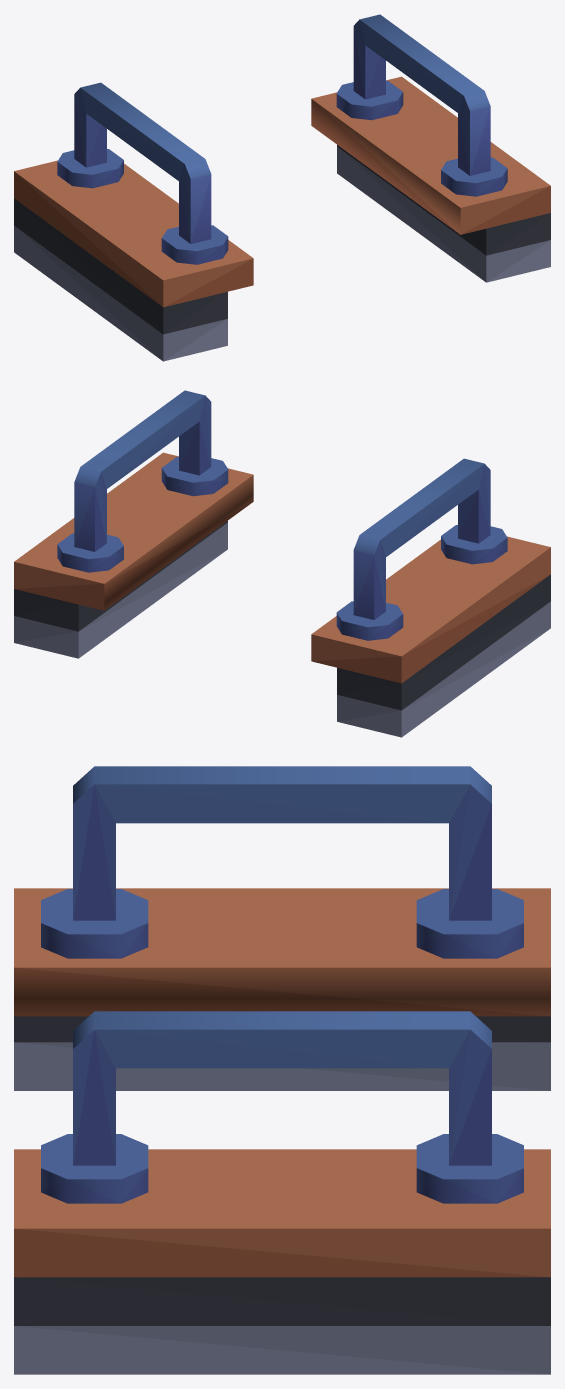
Rendered from coaster_station_fence.glb.
3 renders of one model, top to bottom at view 1: azimuth 30°, elevation 25°; view 2: azimuth 150°, elevation 25°; view 3: azimuth 270°, elevation 25°, orthographic. The views are drawn at different scales.
Parts seen in each view (by area): view 1: coaster_station_fence; view 2: coaster_station_fence; view 3: coaster_station_fence.
Boxes of the visible parts, x1,y1,x2,y2 form: coaster_station_fence: (14,14,550,361); coaster_station_fence: (14,390,550,737); coaster_station_fence: (14,766,550,1374).
Bounding box in the file's own units: 1.5 × 0.63 × 1.
